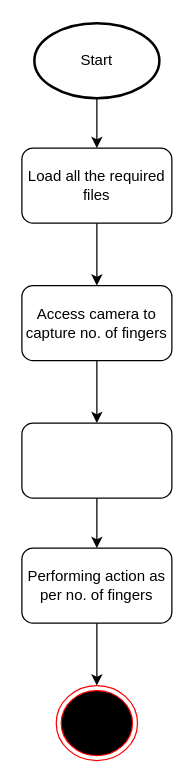
Image size: 194x783. Some labels were removed from this diagram. The shapes that lost their labels are listed below. From the top down, each one's centre as x and y in pixels, then its label:
At pixel 96 460: "Taking value of finger which is shown the most in the given time".
At pixel 96 722: "End".
